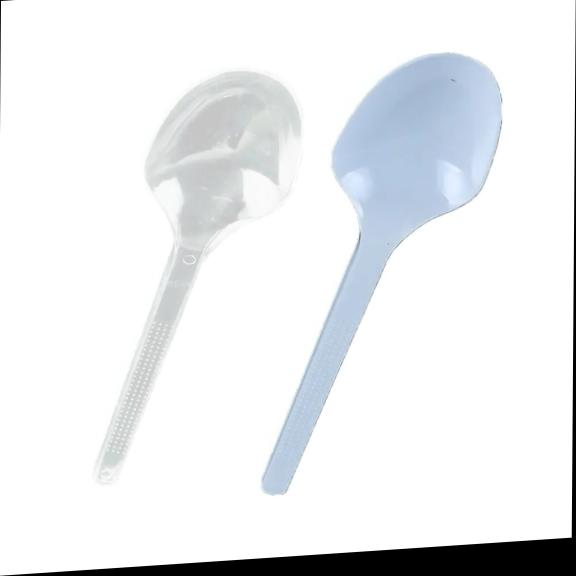Plastik: (261, 53, 500, 493), (94, 71, 299, 482)
